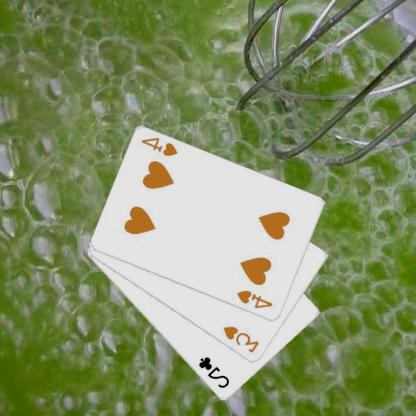2C: (197, 354, 233, 390)
3H: (222, 324, 262, 354)
4H: (140, 135, 181, 158), (236, 288, 276, 310)
